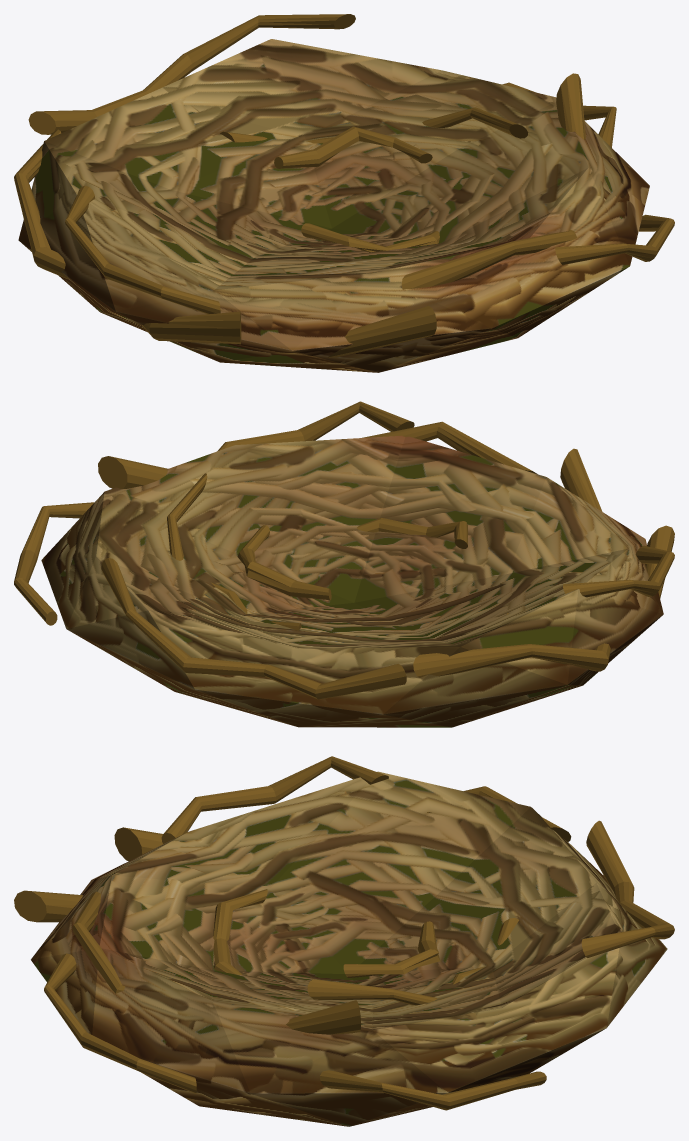
File: SM_nest.fbx
The picture shows the model from 3 angles, top to bottom: view 1: azimuth 30°, elevation 25°; view 2: azimuth 150°, elevation 25°; view 3: azimuth 270°, elevation 25°; orthographic projection. The views are drawn at different scales.
Visible parts, largest first — view 1: nest_low, Cylinder.001; view 2: nest_low, Cylinder.001; view 3: nest_low, Cylinder.001.
Boxes of the visible parts, x1,y1,x2,y2 form: nest_low: (18, 39, 649, 372); Cylinder.001: (14, 14, 674, 357); nest_low: (41, 435, 663, 727); Cylinder.001: (14, 401, 674, 699); nest_low: (31, 771, 667, 1126); Cylinder.001: (14, 756, 674, 1110).
Size of the model in its own units: 77.38 by 22.61 by 75.88.
Materials: 2 (1 with a texture image).
